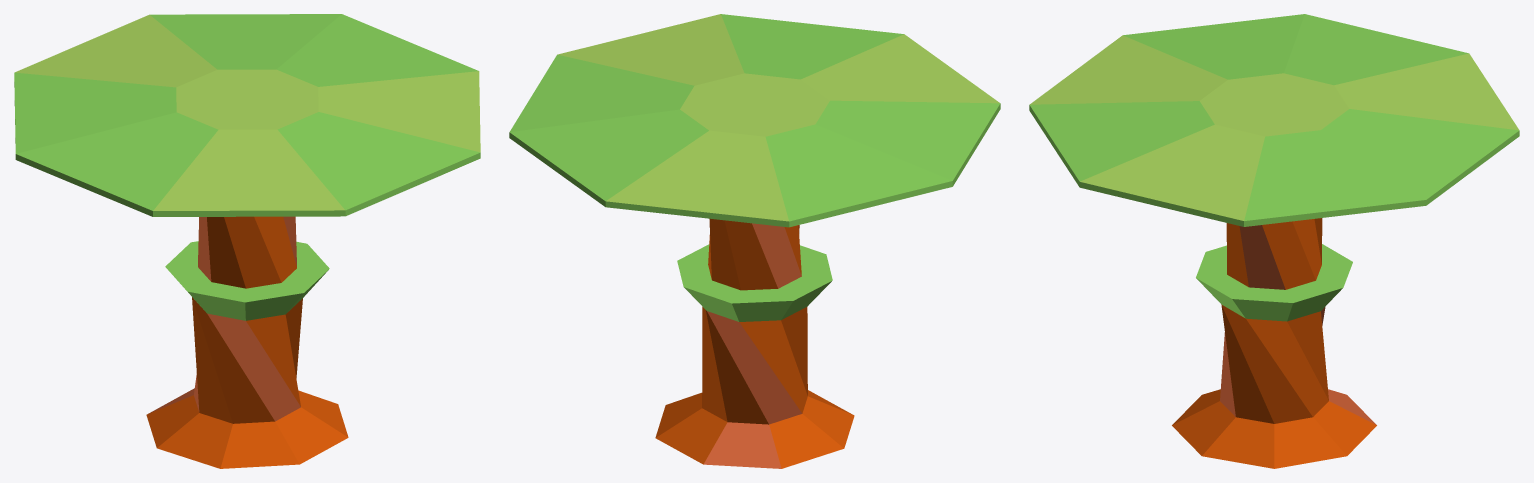
Rendered from TreeMonolit.fbx.
3 views of the same model, side by side, from view 1: azimuth 30°, elevation 25°; view 2: azimuth 150°, elevation 25°; view 3: azimuth 270°, elevation 25° (orthographic).
Visible parts, largest first — view 1: Cylinder; view 2: Cylinder; view 3: Cylinder.
Boxes of the visible parts, x1,y1,x2,y2 form: Cylinder: [14, 14, 480, 468]; Cylinder: [509, 14, 1000, 468]; Cylinder: [1029, 14, 1519, 468].
Size of the model in its own units: 899 by 648 by 899.
